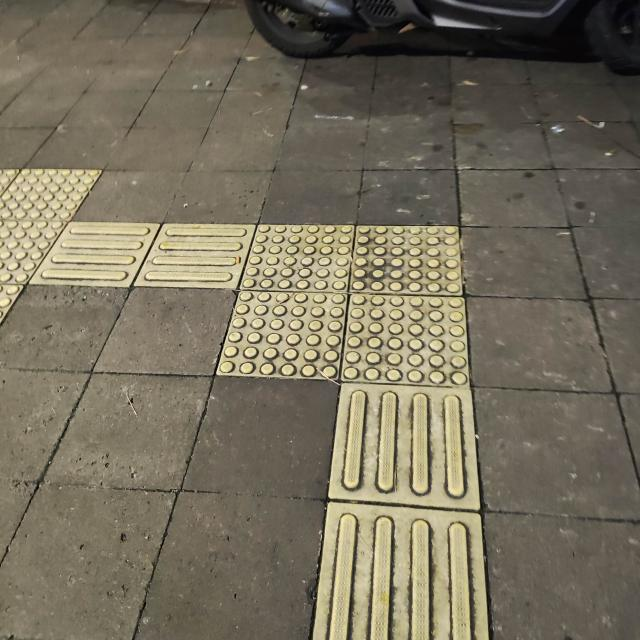kiri: (81, 201, 514, 465)
